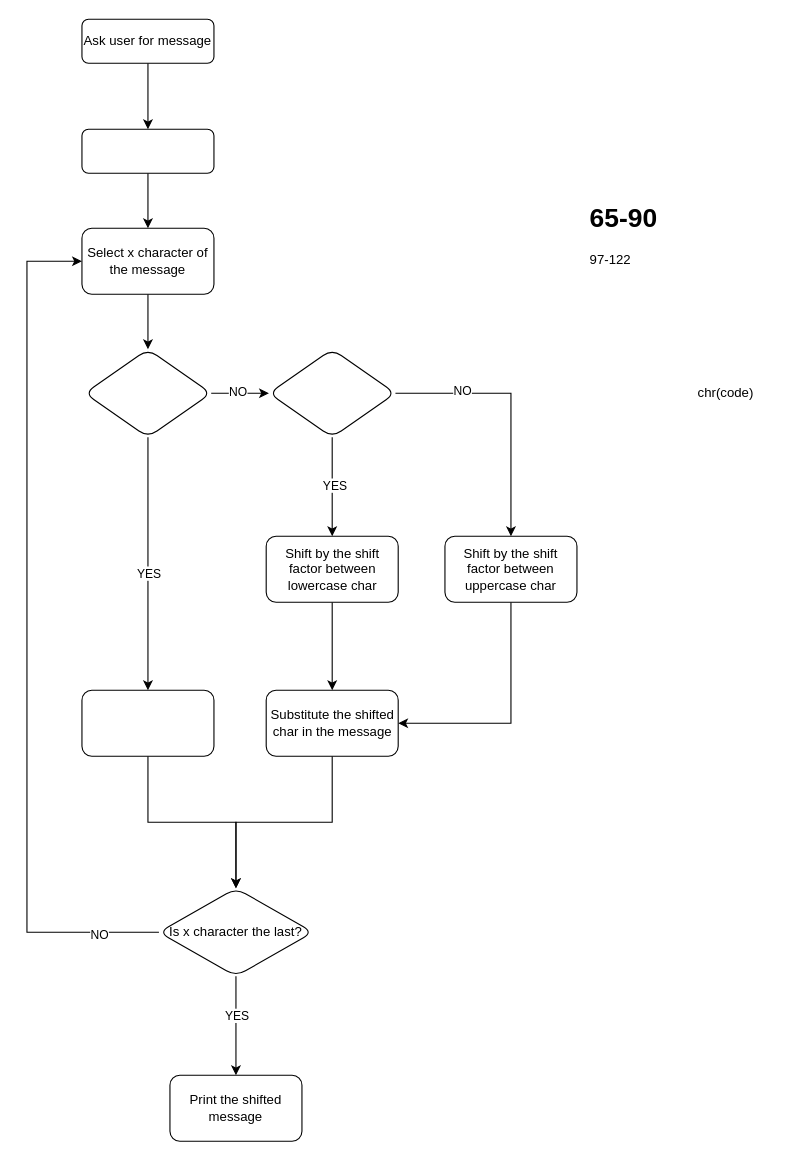
Some shapes in this 805 by 1161 pixel diagram are drawn without their labels. The shapes that lost their labels are listed below. From the top down, each one's centre as x and y in pixels, then its label:
point (147, 150): Ask user for shift factor
point (147, 392): Is x character a number?
point (331, 392): Is x character lowercase?
point (147, 722): No shift needed
